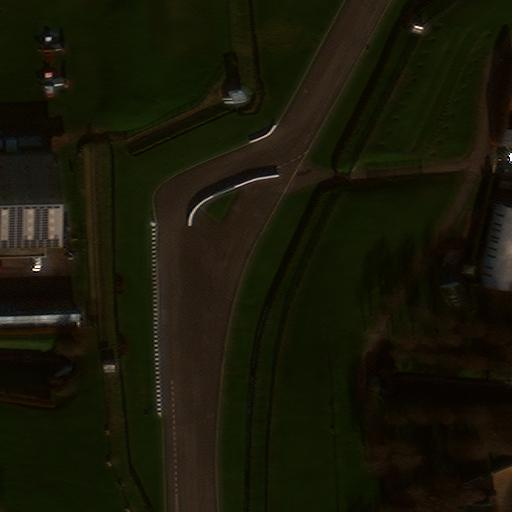Small Civil Transport: (38, 72, 68, 97), (36, 36, 63, 60)
